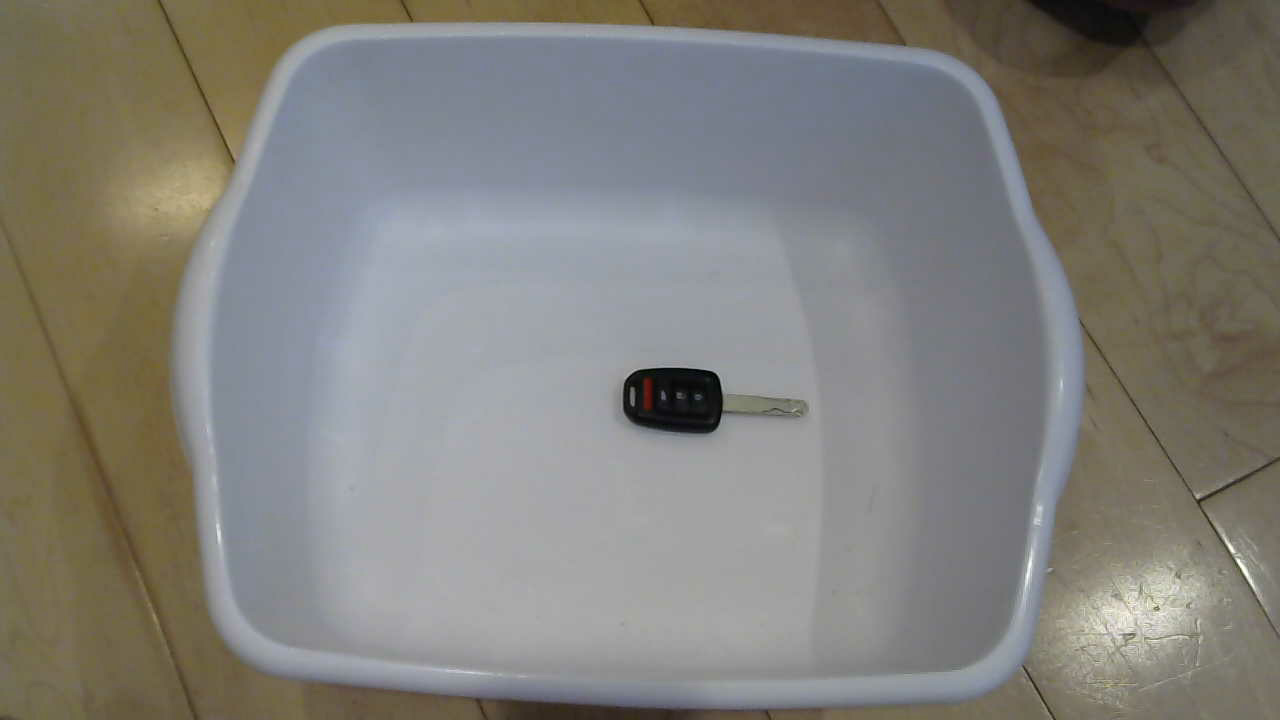key: (597, 360, 823, 456)
